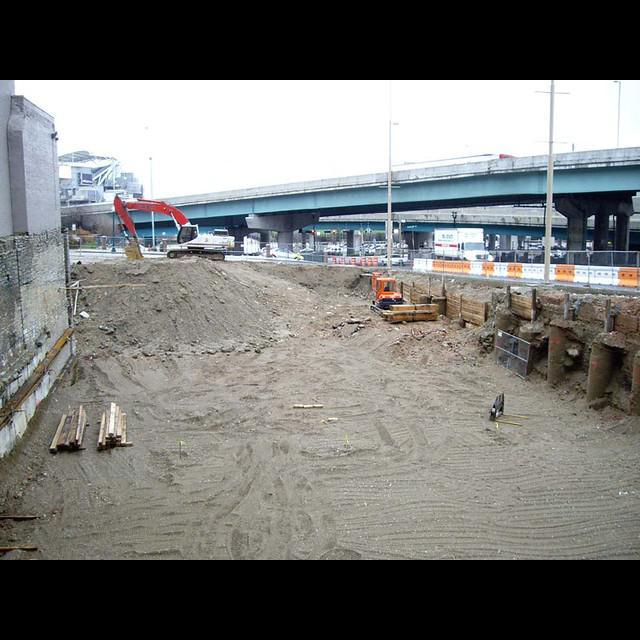Excavator: (112, 192, 236, 264)
Safety Cone: (373, 258, 379, 266), (368, 258, 373, 267), (361, 258, 366, 266), (340, 258, 346, 264), (332, 257, 337, 264), (351, 258, 356, 265)
sedan: (265, 247, 305, 260), (381, 254, 404, 265)
semi: (391, 154, 516, 171)
truck: (434, 228, 495, 262)
wheel loader: (369, 272, 438, 321)
